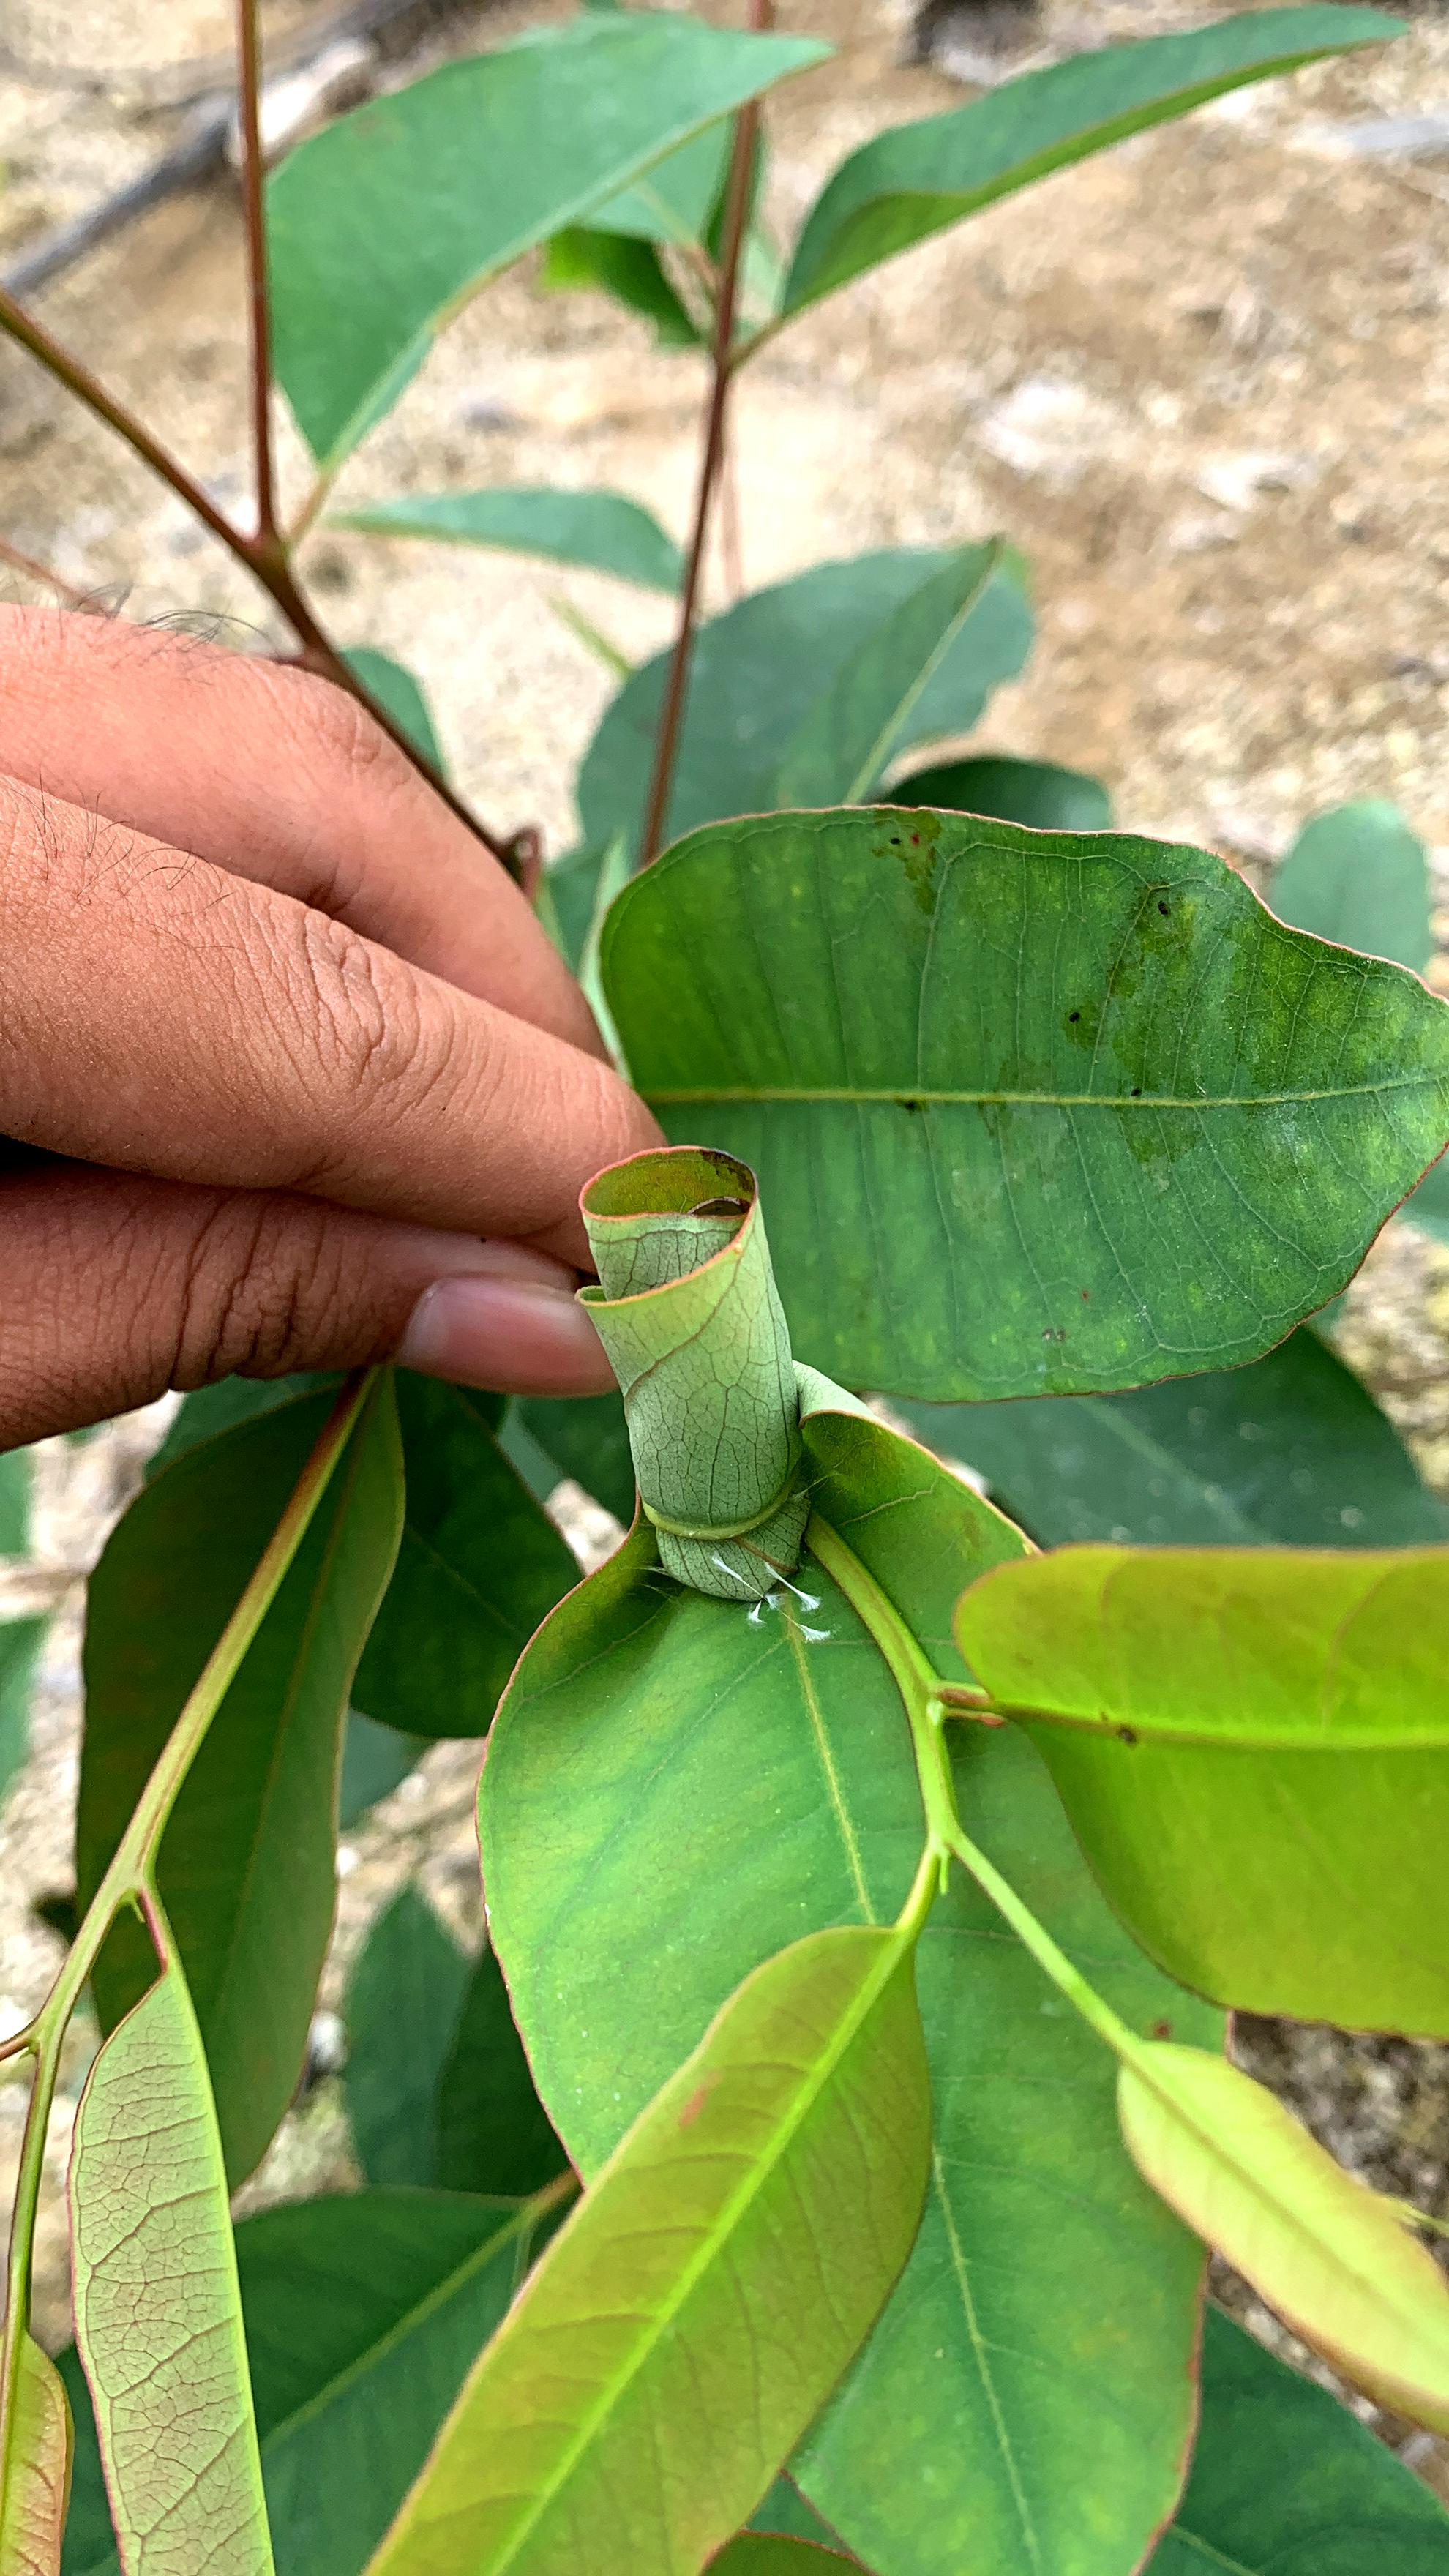Leaf Roller - Leaf: (541, 1099, 872, 1759)
